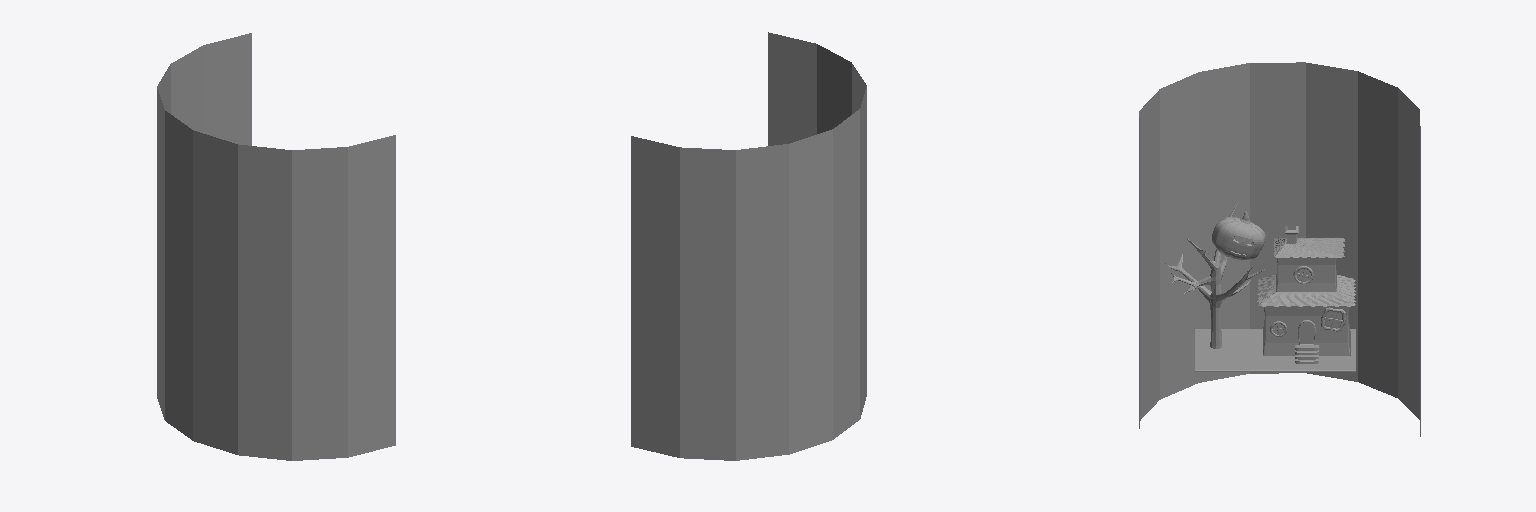
Rendered from casabrujas.obj.
The picture shows the model from 3 angles: view 1: azimuth 30°, elevation 25°; view 2: azimuth 150°, elevation 25°; view 3: azimuth 270°, elevation 25°; orthographic projection.
Visible parts, largest first — view 1: Cylinder; view 2: Cylinder; view 3: Cylinder, Cube_001.
Part boxes in pixels (x1,y1,x2,y2): Cylinder: (157,33,395,460); Cylinder: (631,32,866,460); Cylinder: (1139,62,1420,436); Cube_001: (1165,202,1355,371).
Bounding box in the file's own units: 18.88 × 35.91 × 29.46.